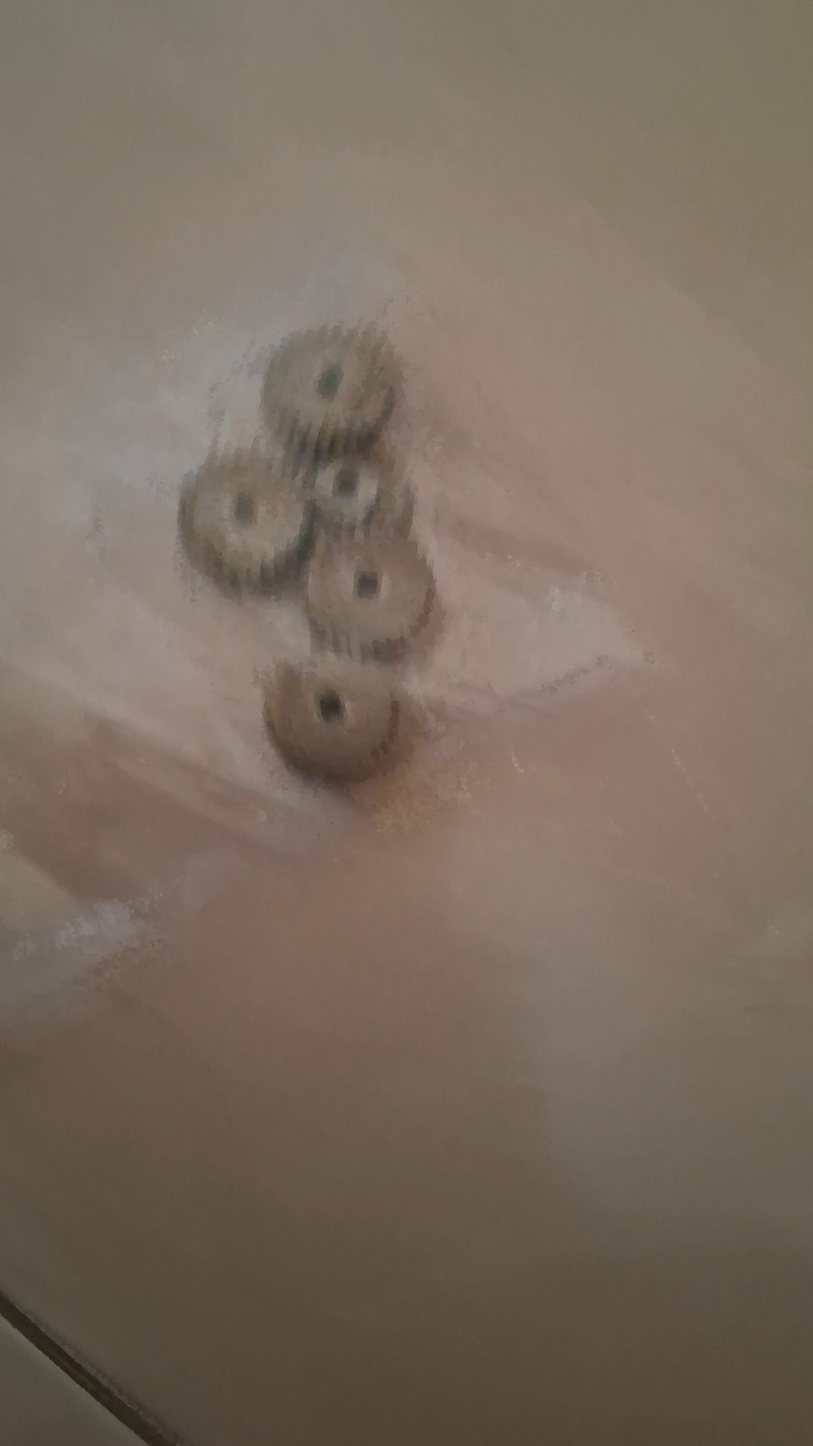spur gear: (179, 450, 312, 590), (262, 326, 401, 457), (265, 655, 402, 781), (306, 533, 435, 662), (315, 444, 415, 537)
